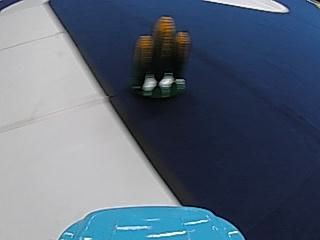corn: (127, 11, 194, 102)
